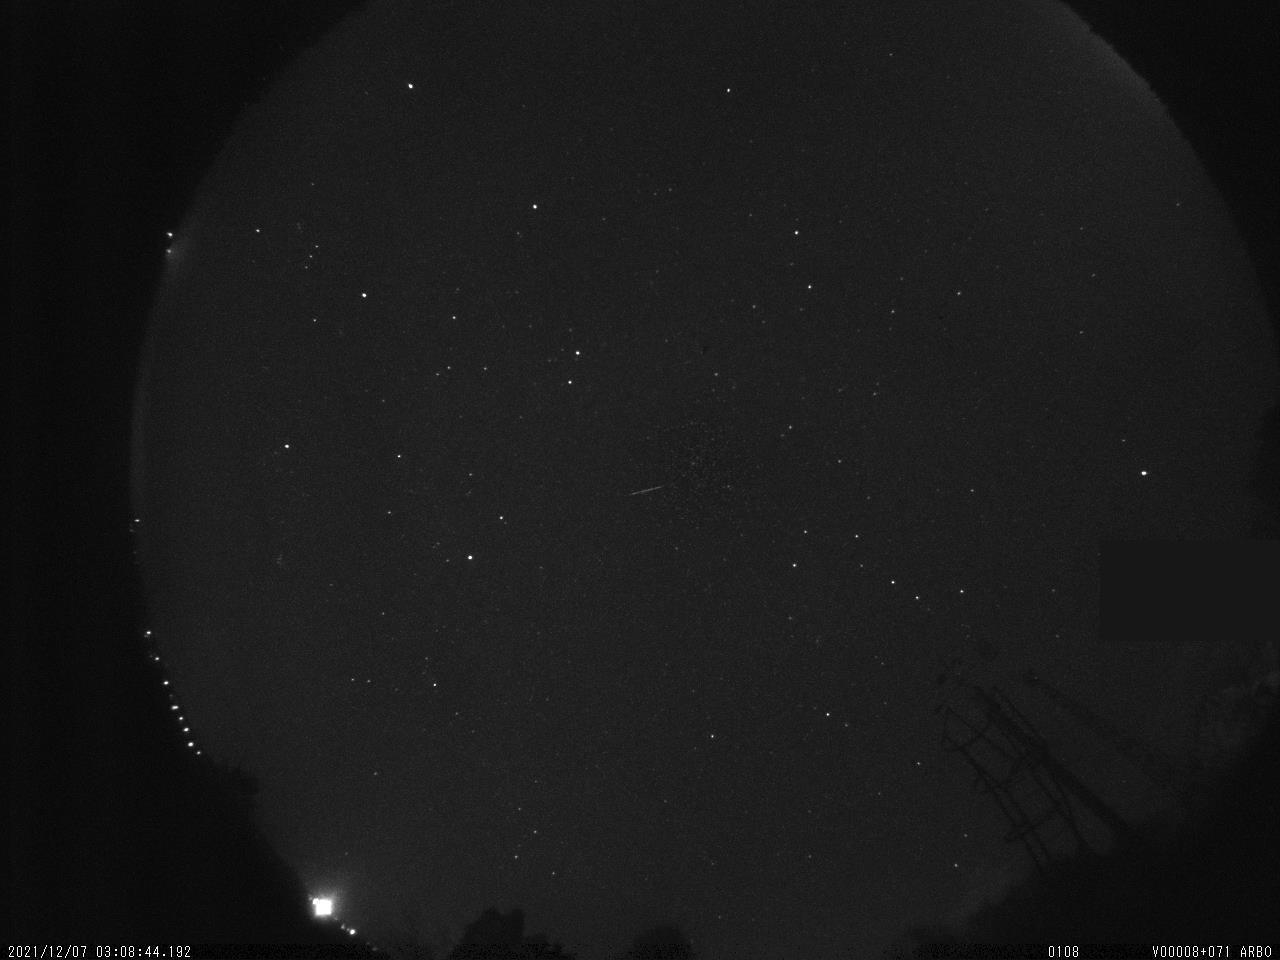meteor: (604, 478, 683, 513)
